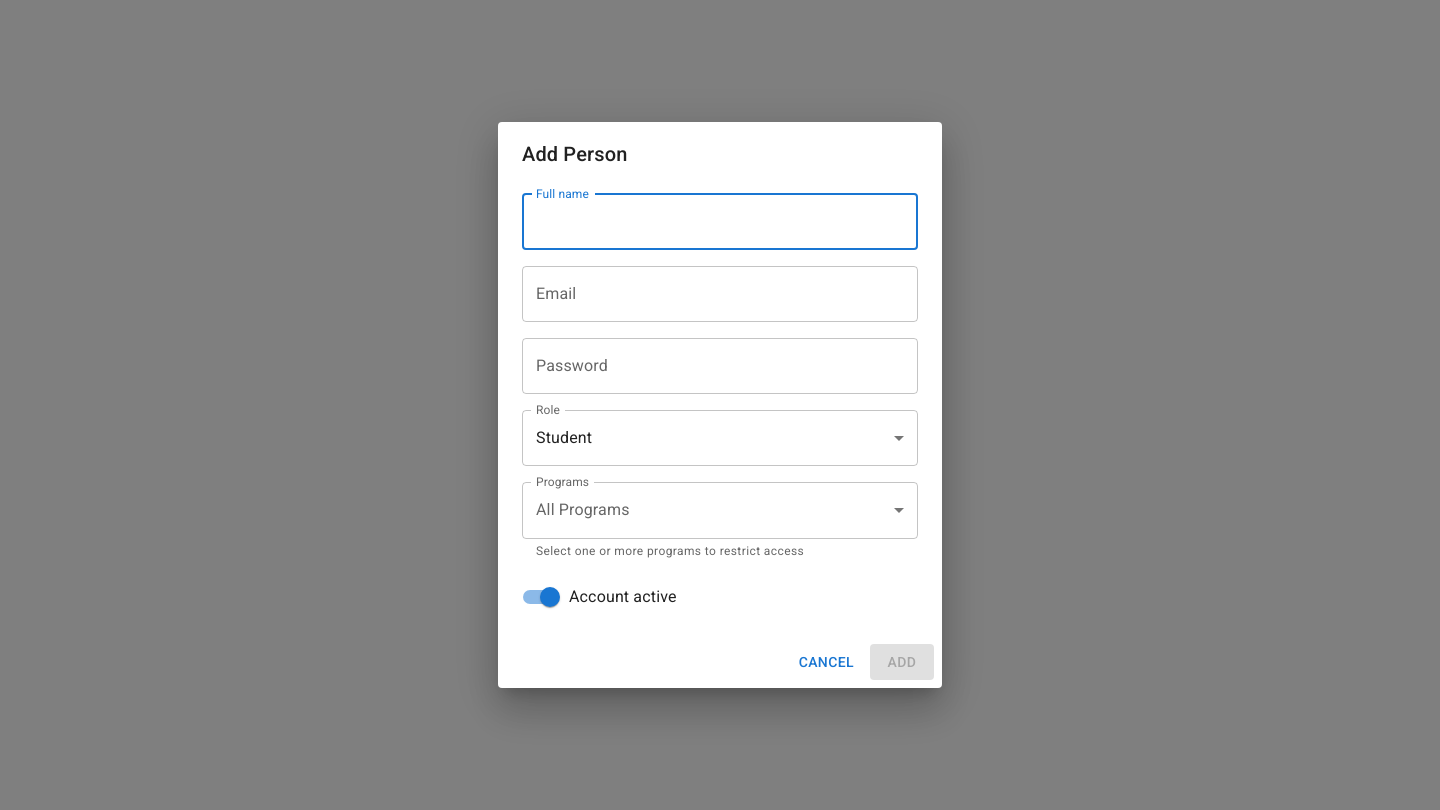
Test: AddEditPersonModal › shows non-restrictive helper text when role is instructor
The width and height of the screenshot is (1440, 810).
Click the dropdown labelled "Student".
click(564, 438)  # box [536,428,592,447]
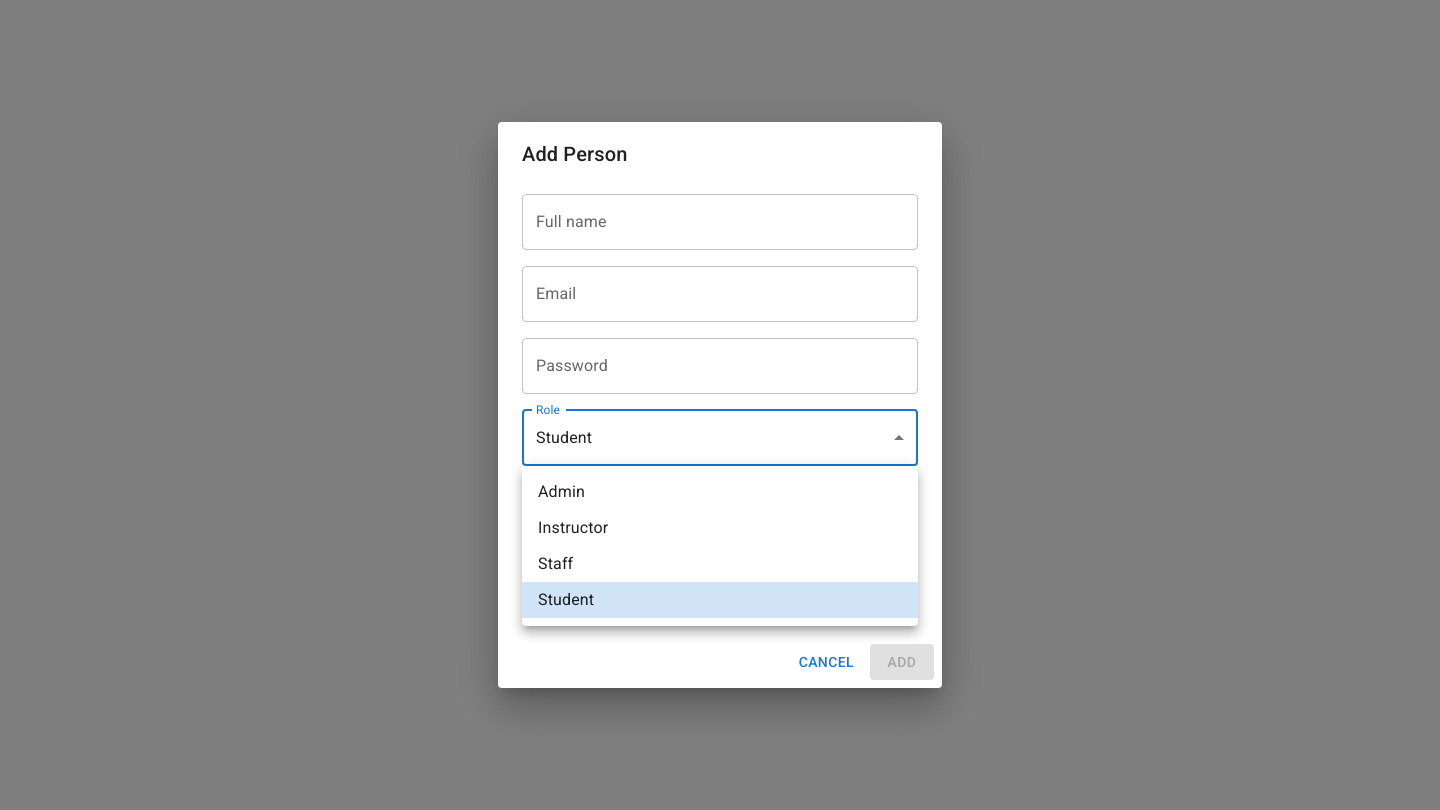
Click the option "Instructor".
click(573, 528)  # box [538,518,608,537]
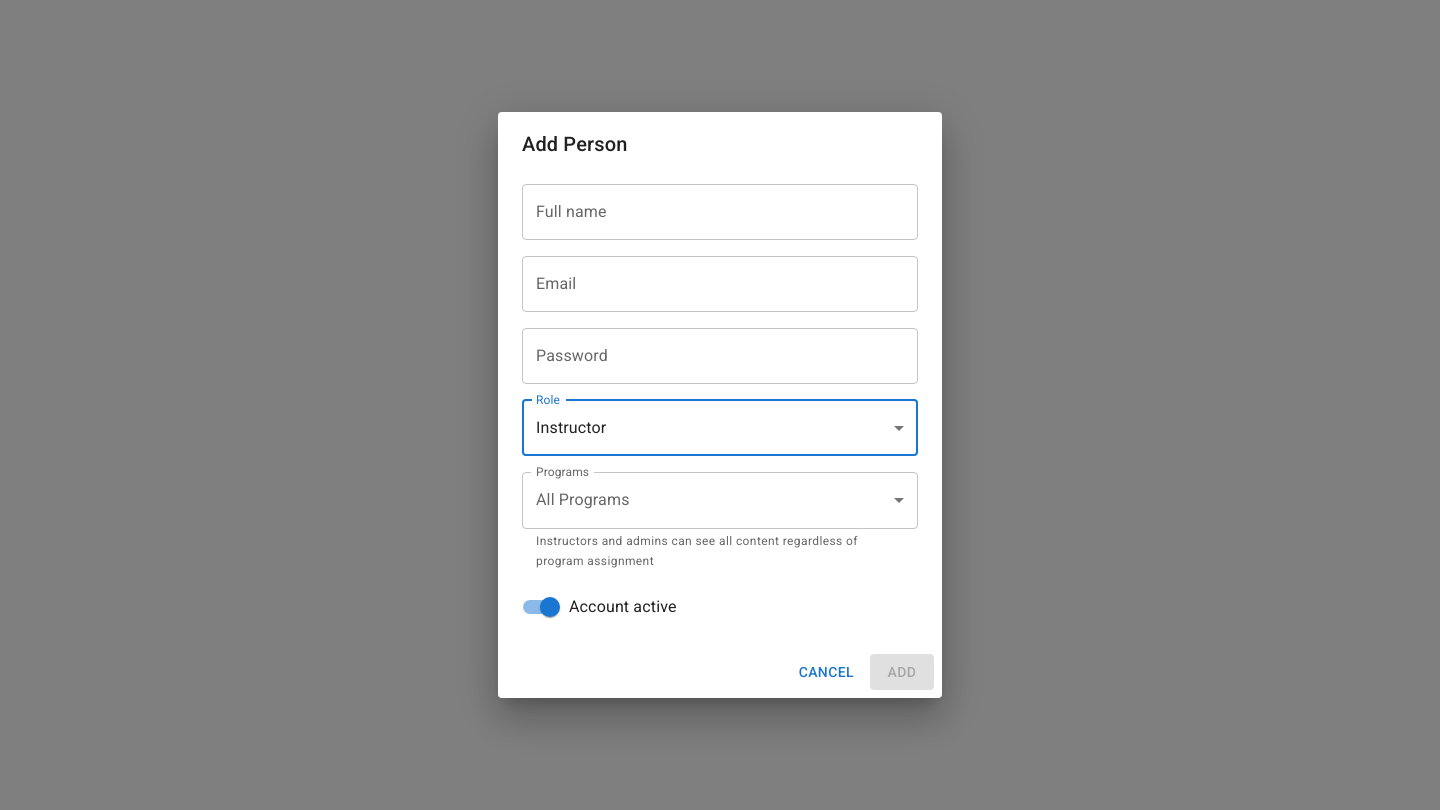
Expected: the text "Instructors and admins can see all content regardless of program assignment" is shown, [536,532,904,572]
